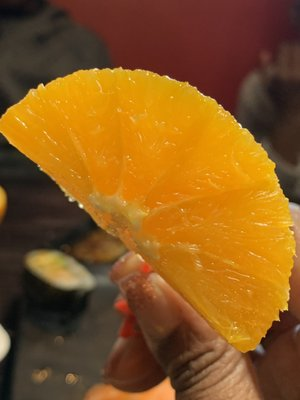taco: (1, 67, 298, 393)
